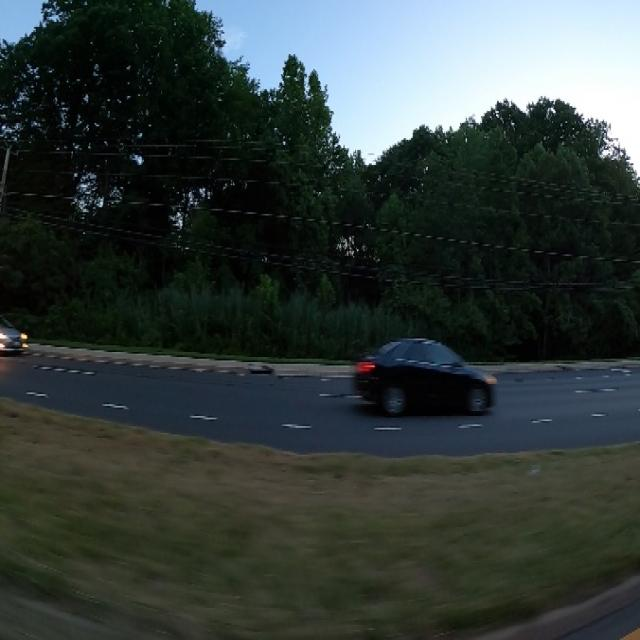cars: (350, 328, 503, 420), (0, 304, 30, 354)
